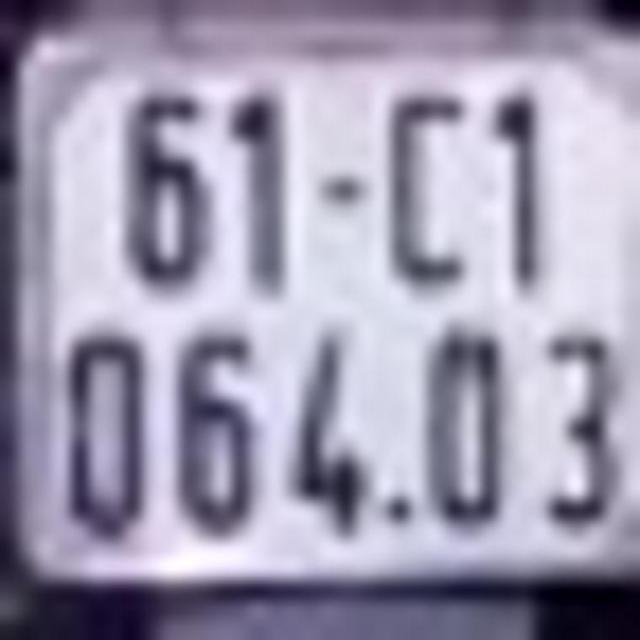0: (60, 324, 152, 540), (423, 304, 497, 530)
1: (226, 94, 296, 300), (490, 92, 553, 287)
3: (528, 326, 615, 524)
4: (291, 314, 368, 540)
6: (116, 91, 212, 288), (178, 328, 260, 548)
C: (385, 82, 471, 293)
